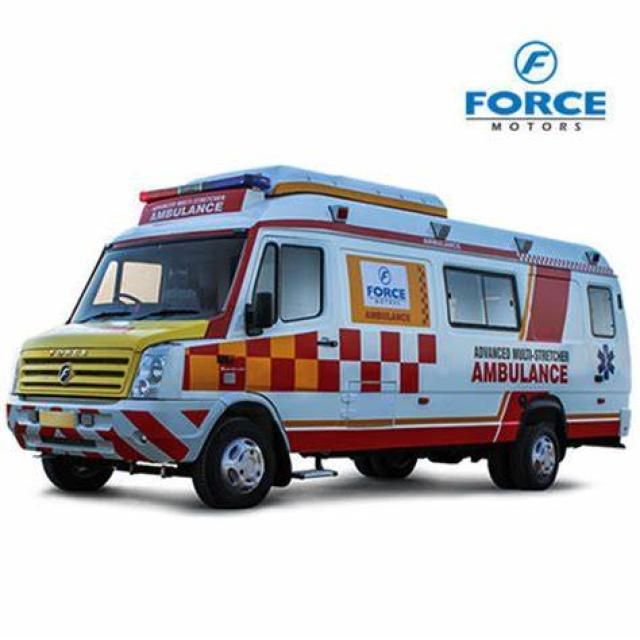ambulance: (137, 168, 272, 201)
